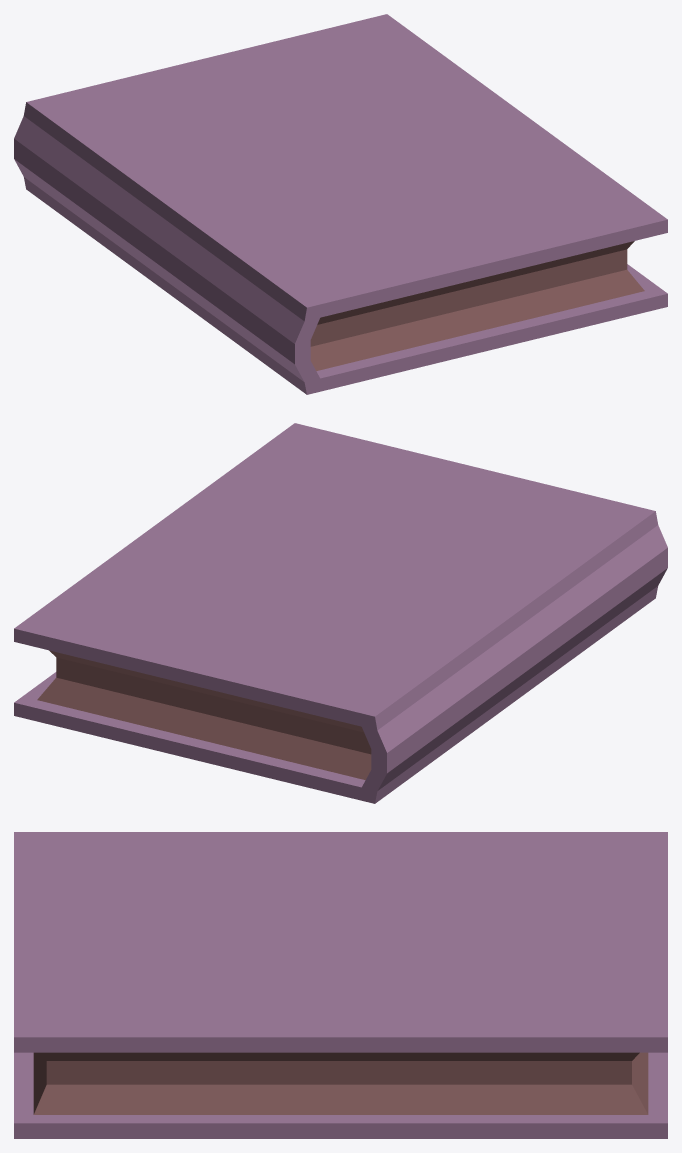
Rendered from BookFBX.fbx.
3 renders of one model, top to bottom at view 1: azimuth 30°, elevation 25°; view 2: azimuth 150°, elevation 25°; view 3: azimuth 270°, elevation 25°, orthographic. The views are drawn at different scales.
Visible parts, largest first — view 1: polySurface2, polySurface1; view 2: polySurface2, polySurface1; view 3: polySurface2, polySurface1.
Boxes of the visible parts, bbox=[...] form: polySurface2: bbox=[14, 14, 667, 394]; polySurface1: bbox=[310, 241, 644, 370]; polySurface2: bbox=[14, 423, 667, 803]; polySurface1: bbox=[37, 650, 371, 779]; polySurface2: bbox=[14, 832, 667, 1138]; polySurface1: bbox=[33, 1052, 648, 1114].
Size of the model in its own units: 18.25 by 4.08 by 23.79.
